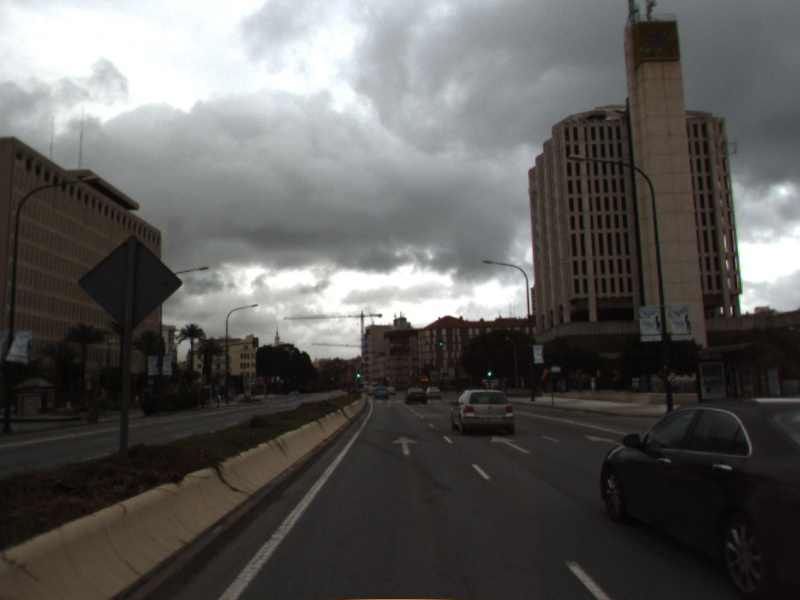STRAIGHT: (488, 433, 535, 456), (389, 434, 421, 457), (581, 432, 623, 447)
